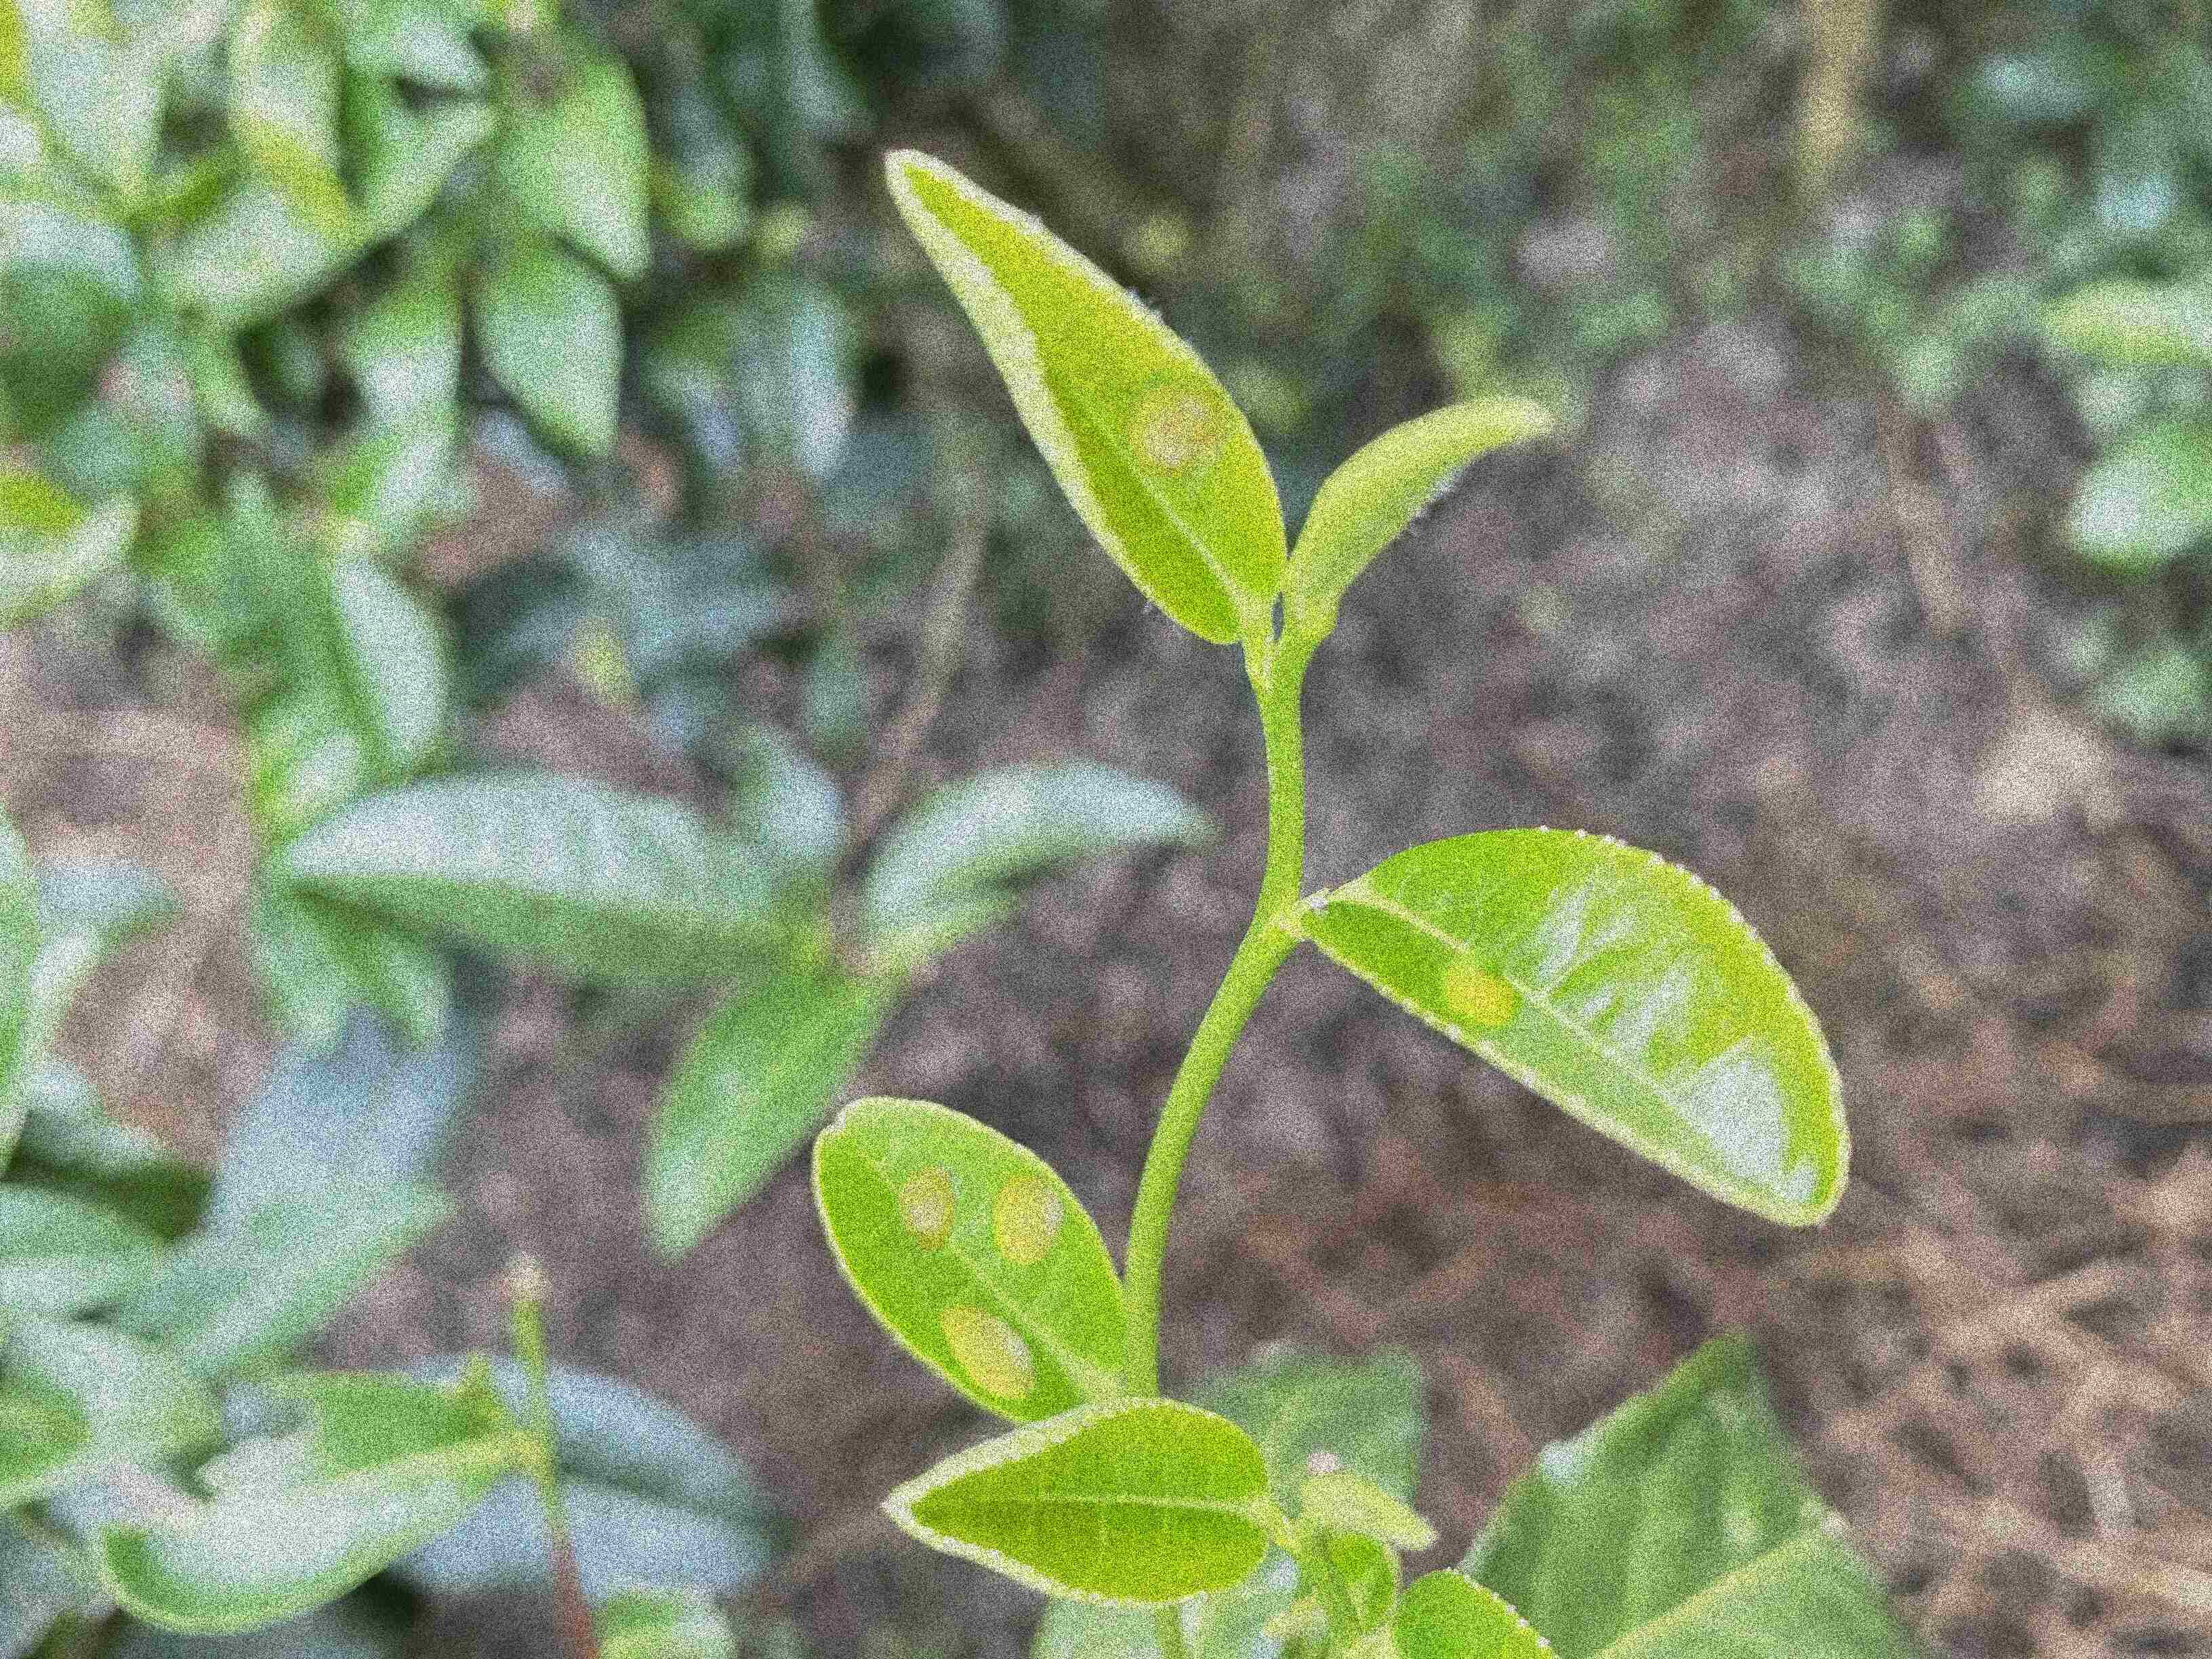chabing_high: (812, 1100, 1129, 1422)
chabing_low: (1305, 828, 1850, 1223), (885, 150, 1292, 647)
healthy: (887, 1396, 1280, 1608)
